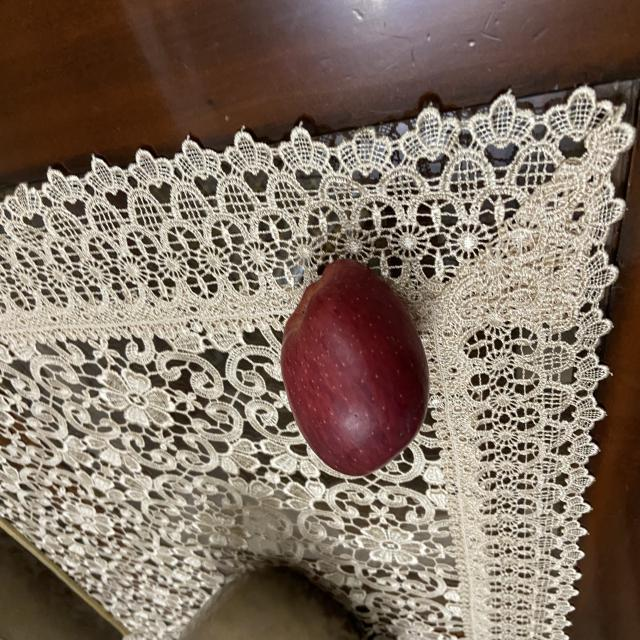apple: (273, 254, 428, 483)
